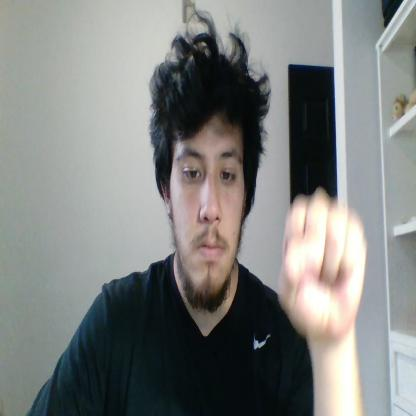S: (278, 188, 367, 340)
